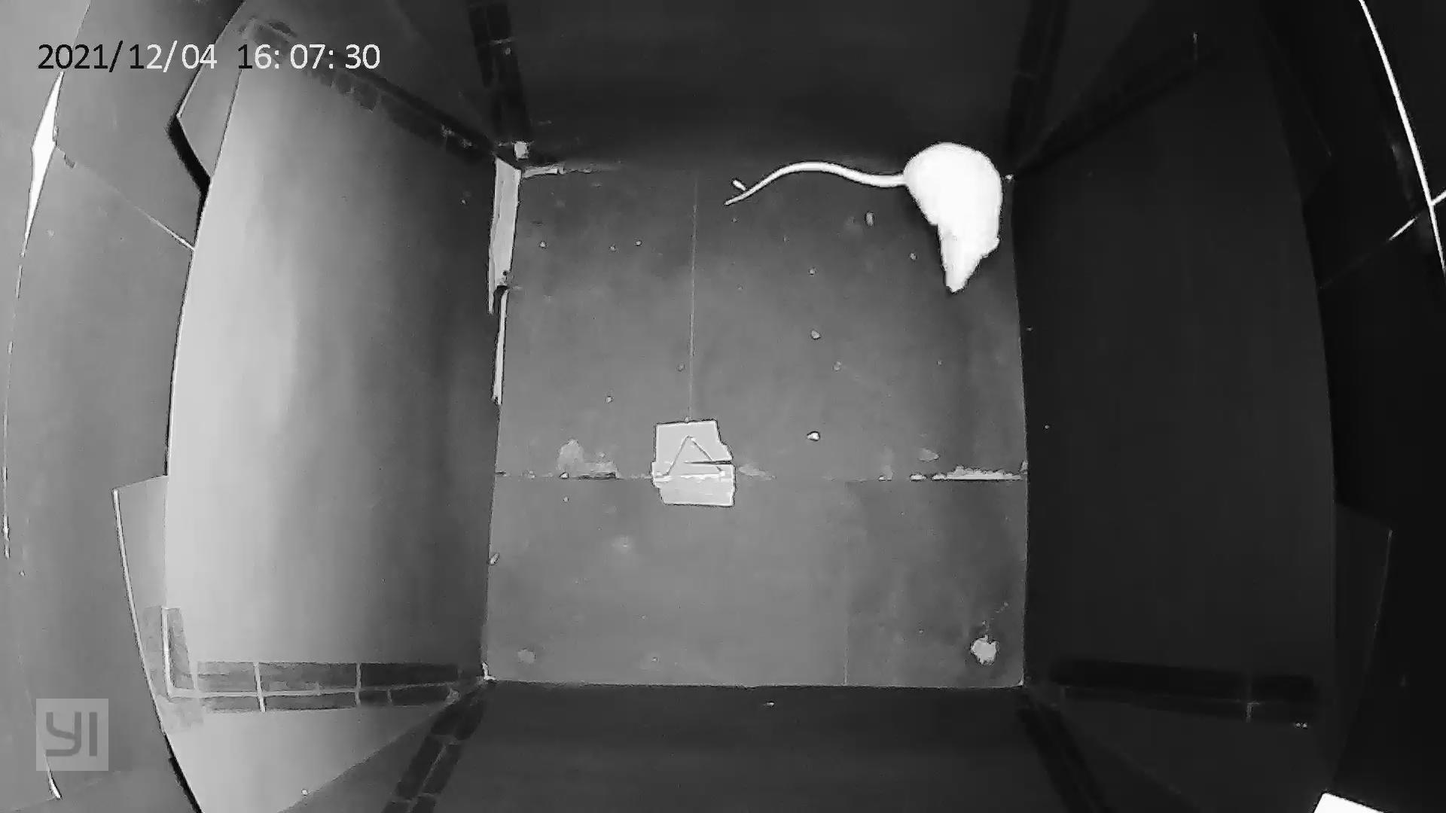rat: (710, 113, 1025, 306)
